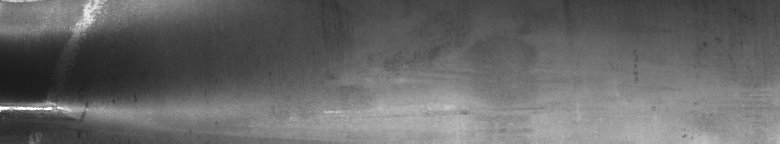ke: (4, 4, 546, 136)
